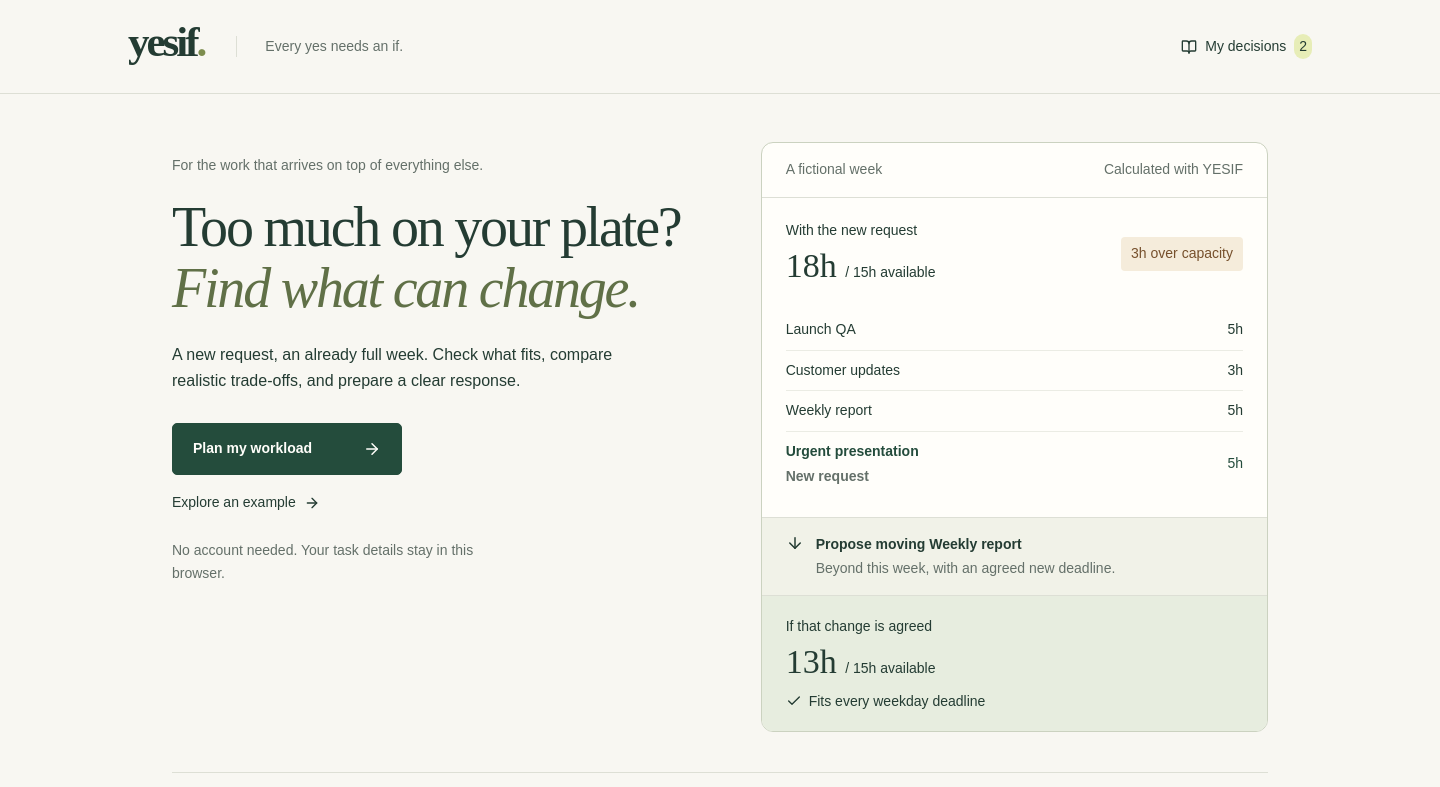
it: saved comparison names material differences, normalizes IDs and zero reserves, and recomputes each snapshot
Click the button "My decisions 2" at coordinates (1247, 47), box [1181,22,1312,71]
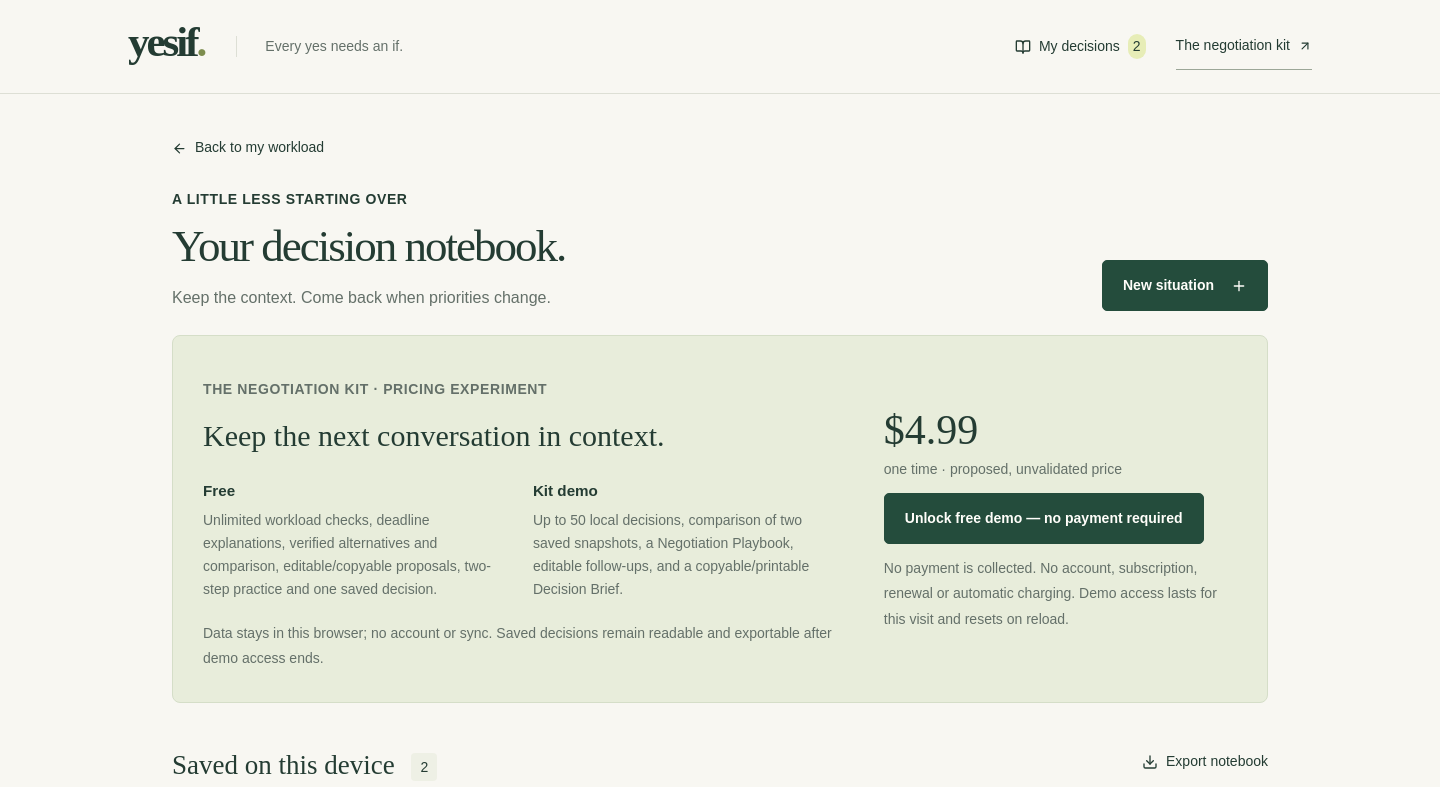
Click the button "Unlock free demo — no payment required" at coordinates (1044, 519), box [884,493,1204,544]
(page scrolled)
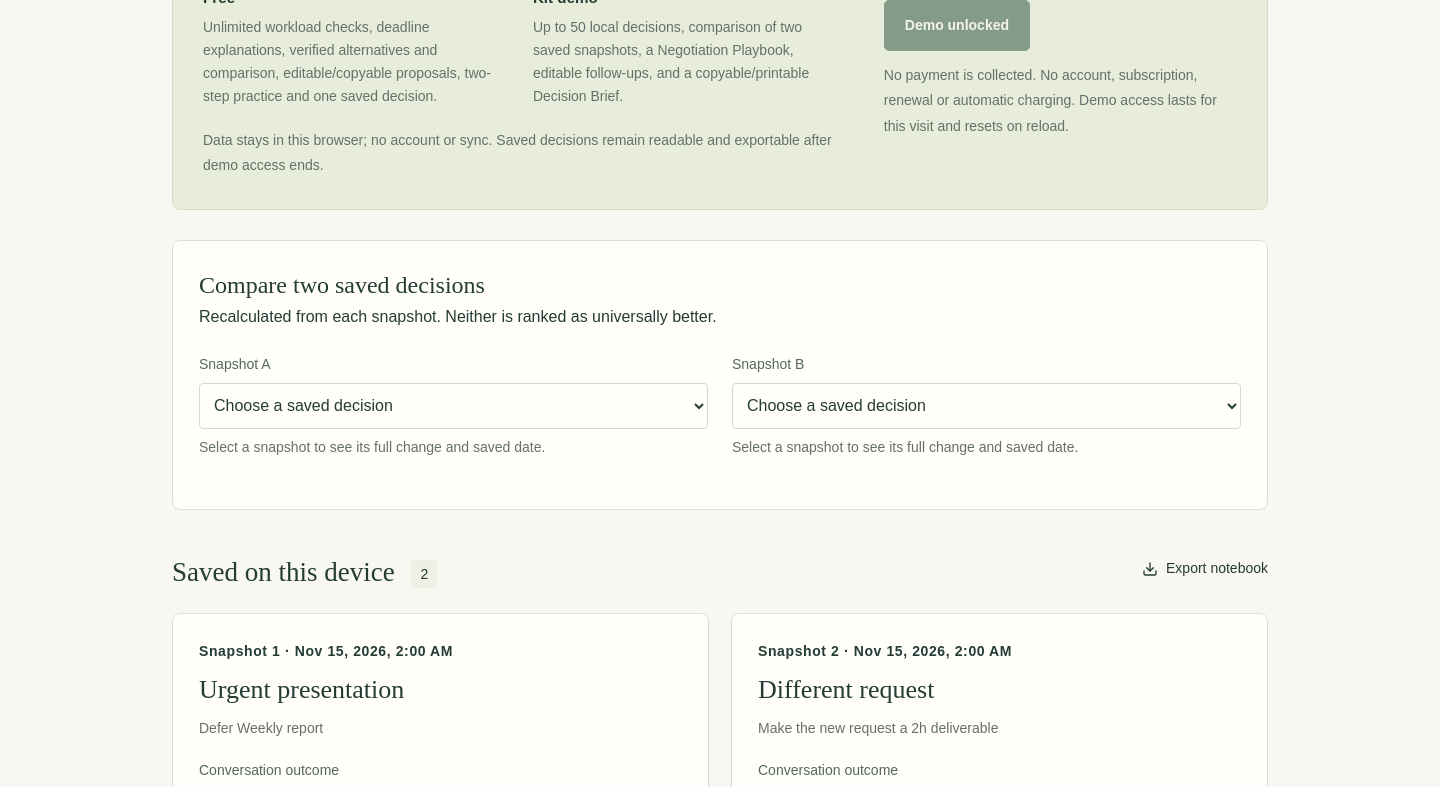
Select "1. Urgent presentation · Move 5h" in the dropdown labelled "Snapshot A" at coordinates (454, 406), box [199,383,708,429]
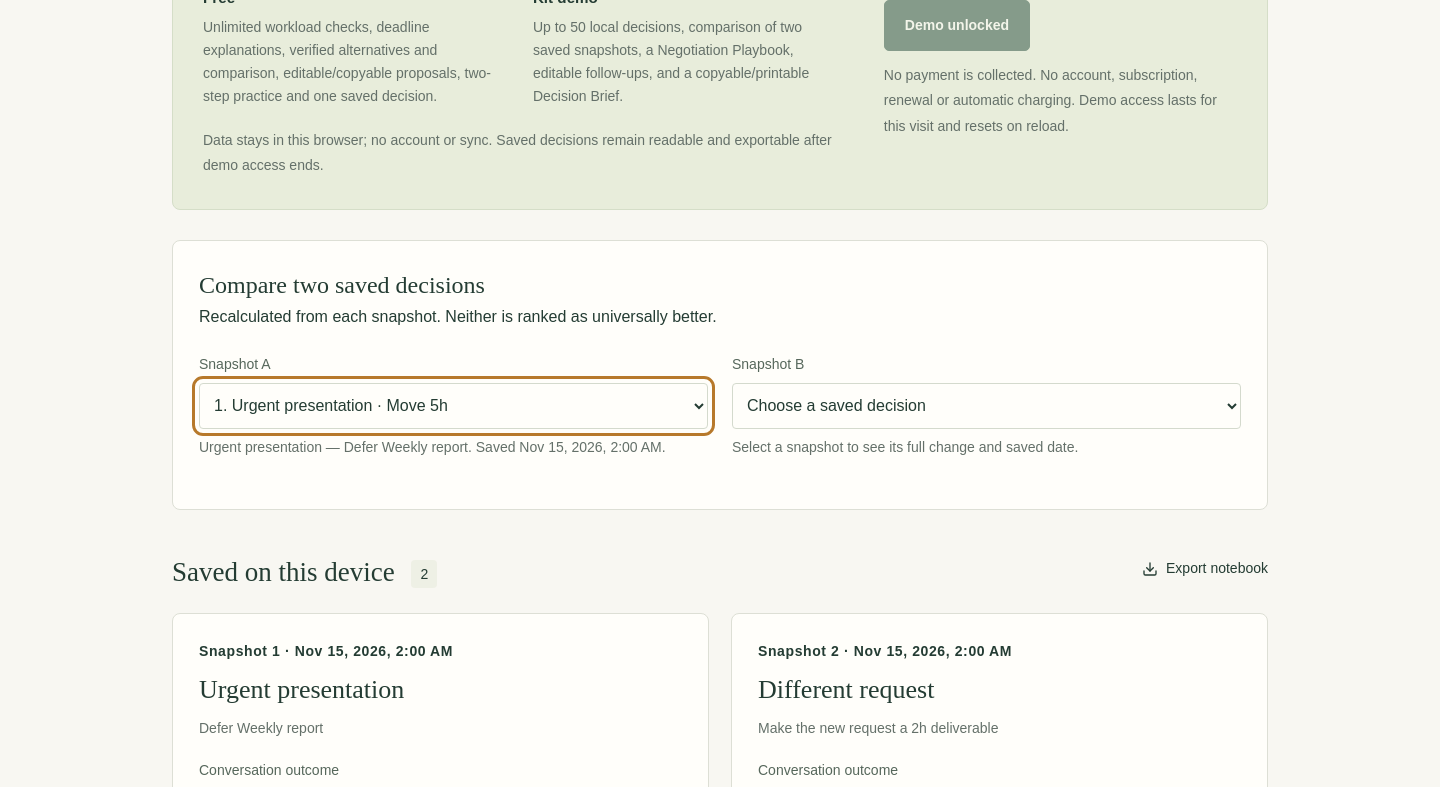
Select "2. Different request · Scope 2h" in the dropdown labelled "Snapshot B" at coordinates (986, 406), box [732,383,1241,429]
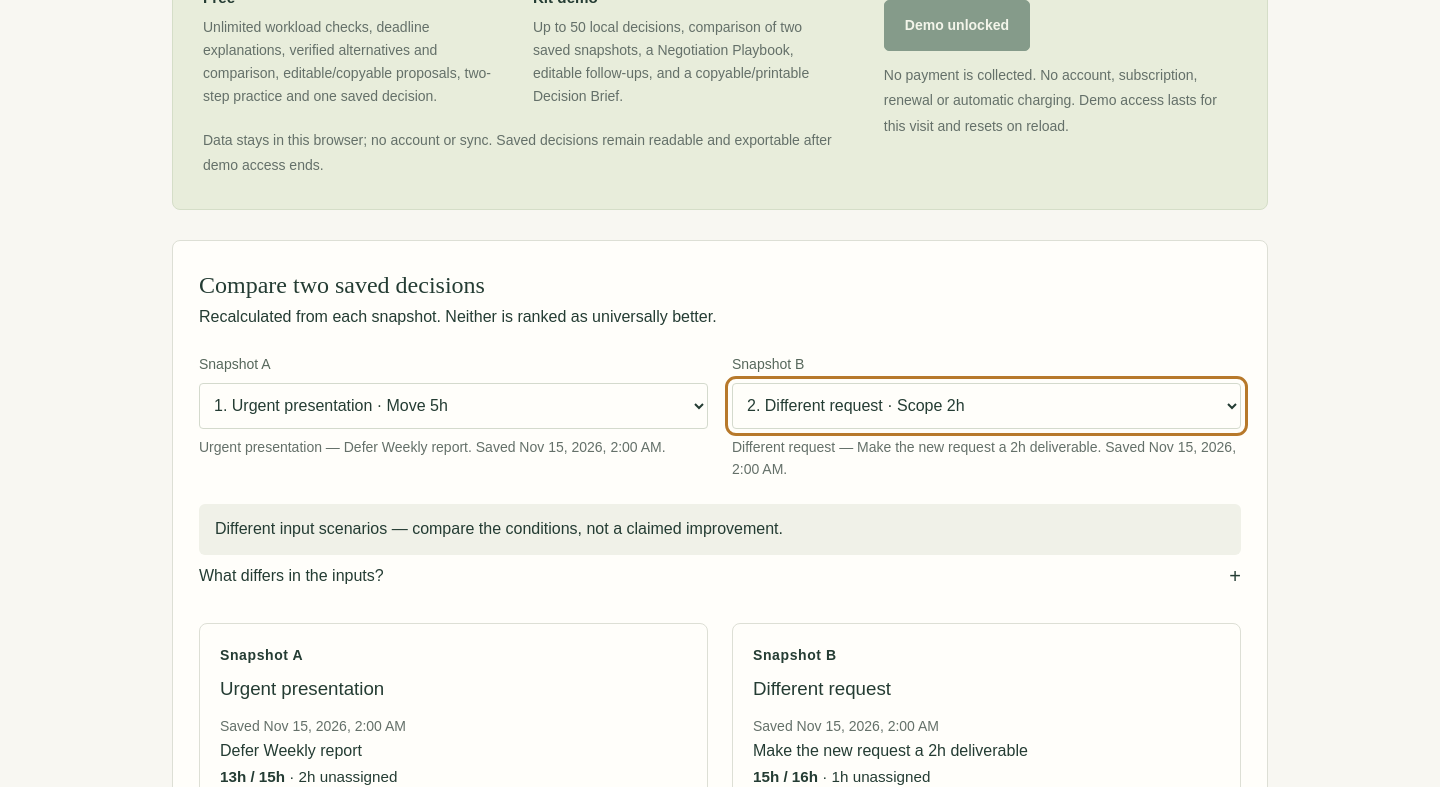
Expected: the text "Different input scenarios" is shown, [215,520,783,537]
Click the heading "What differs in the inputs?" at coordinates (291, 576), box [199,567,384,584]
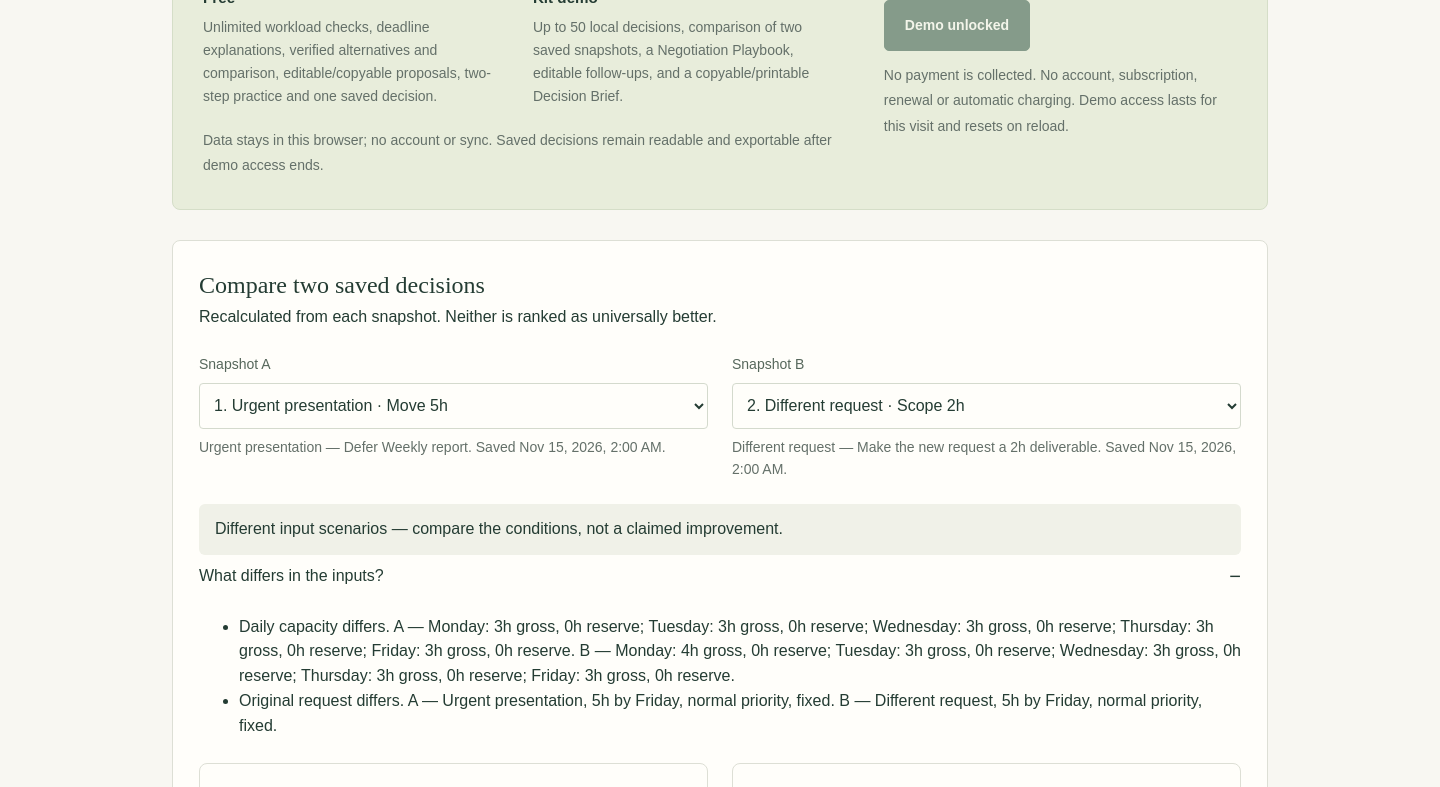
Expected: the list item "Daily capacity differs" is shown, [239,618,1241,684]
